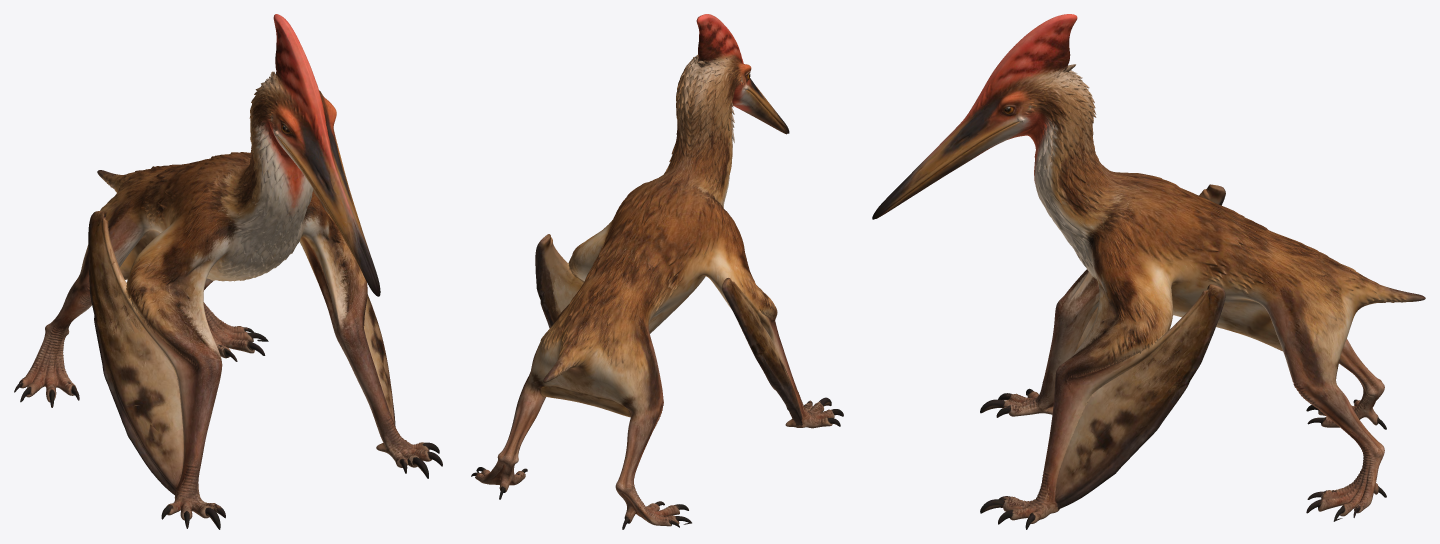
File: pteranodon.glb
3 renders of one model, left to right at view 1: azimuth 30°, elevation 25°; view 2: azimuth 150°, elevation 25°; view 3: azimuth 270°, elevation 25°, orthographic. The views are drawn at different scales.
Parts seen in each view (by area): view 1: pterodactyl; view 2: pterodactyl; view 3: pterodactyl.
Boxes of the visible parts, <box> form: pterodactyl: <box>14,14,442,529</box>; pterodactyl: <box>471,14,843,529</box>; pterodactyl: <box>872,14,1425,529</box>.
Size of the model in its own units: 1.14 by 1.79 by 2.
Materials: 1 (1 with a texture image).
